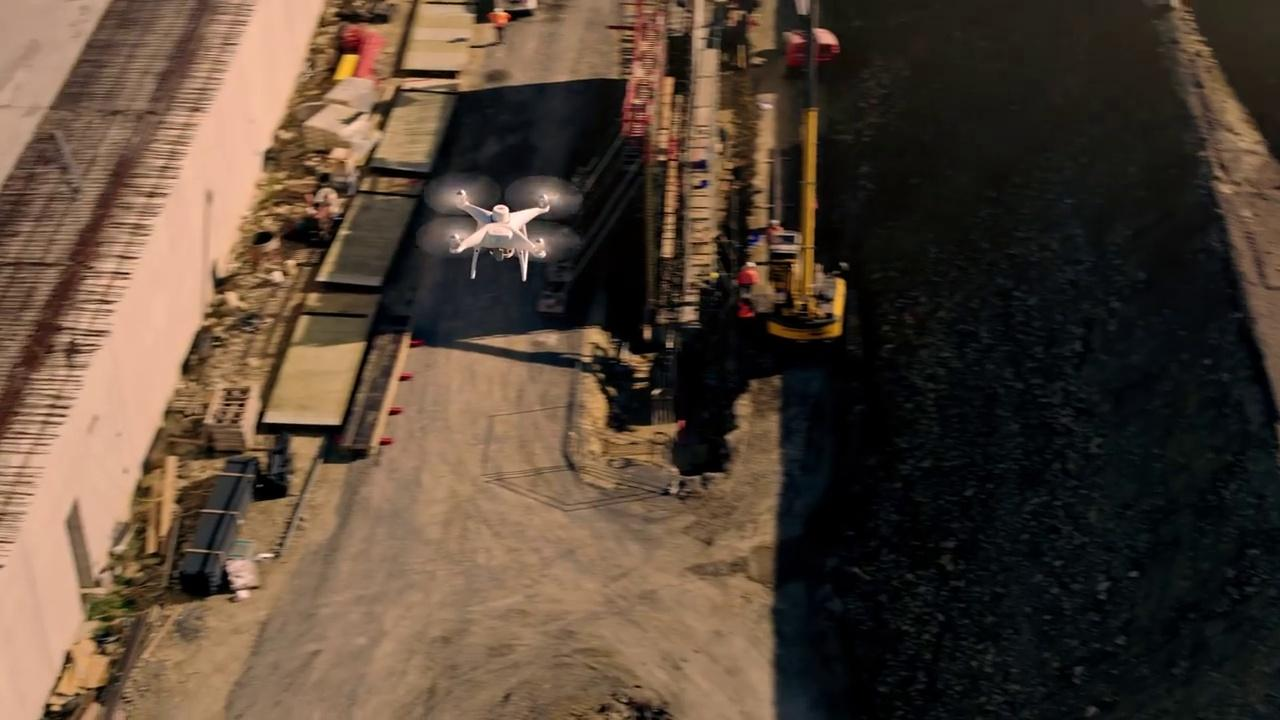drone: (416, 168, 587, 280)
